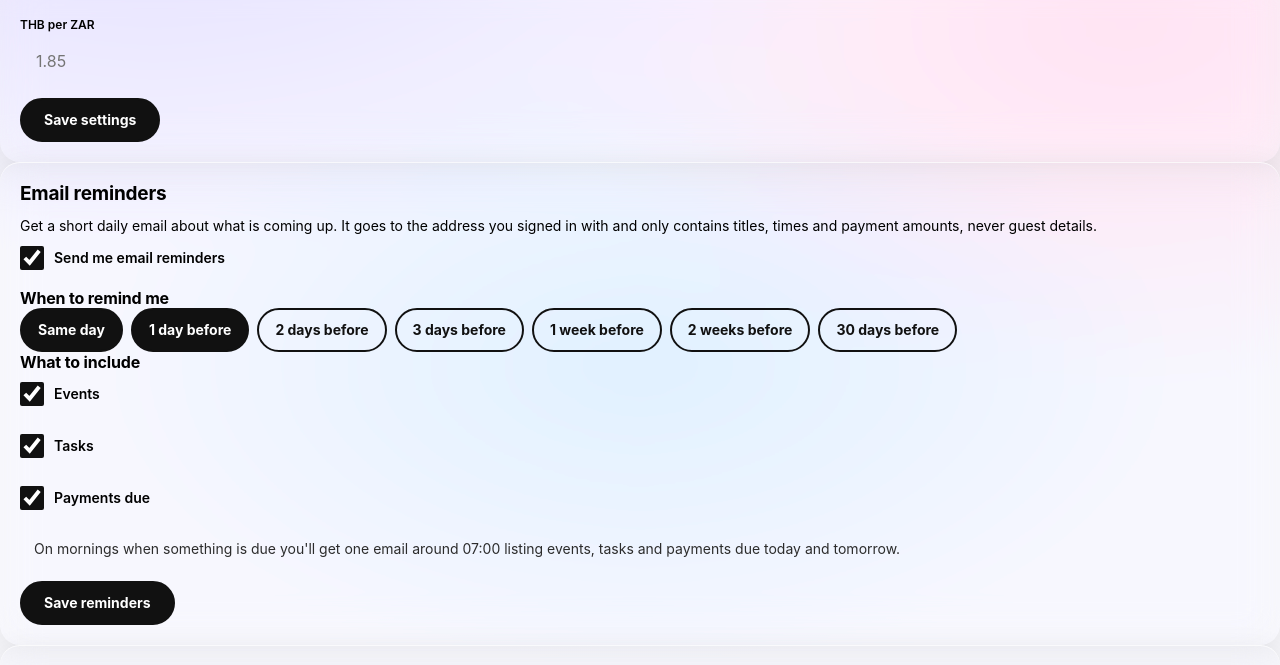
Test: none selected while enabled shows an error and does not save
(page scrolled)
Click the button "Same day": coordinates (71, 330) [20,308,123,352]
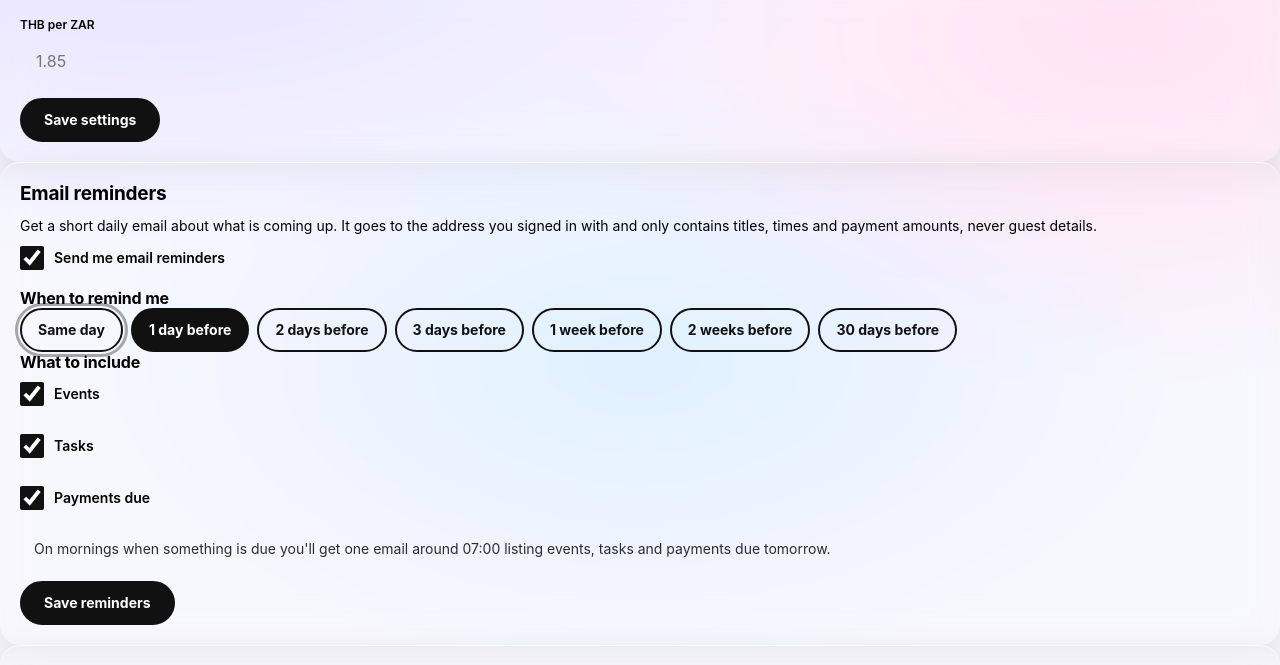
Click the button "1 day before": coordinates (190, 330) [131,308,249,352]
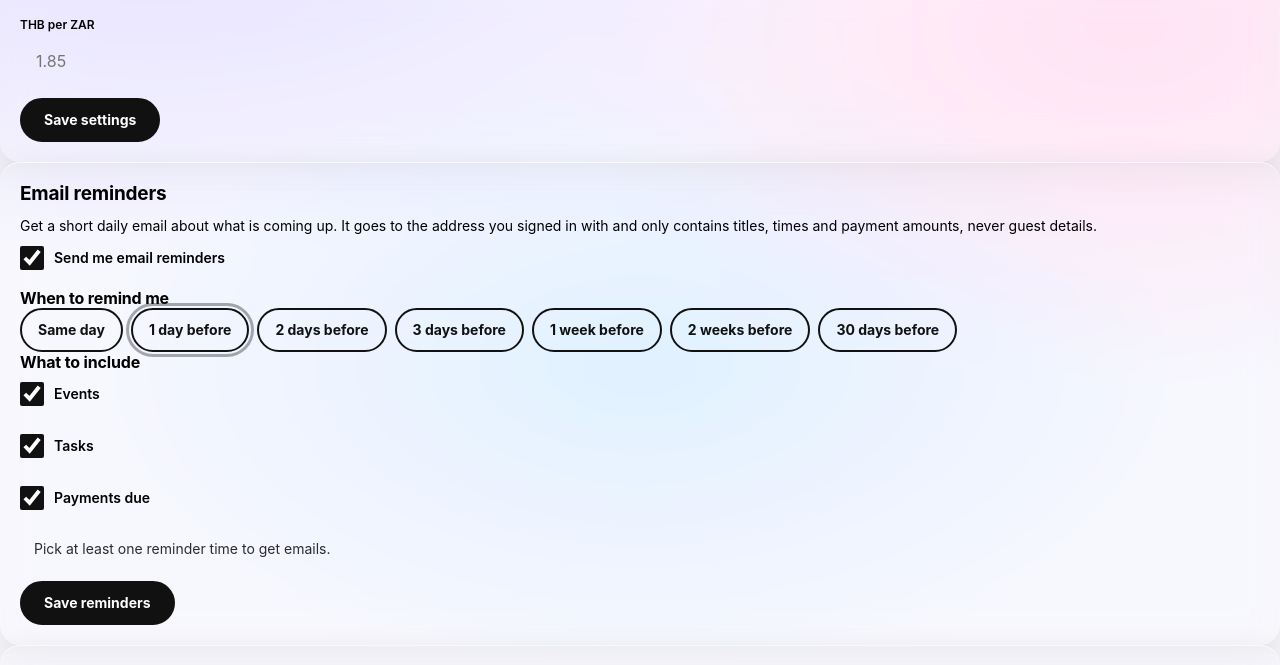
Click the button "Save reminders": coordinates (97, 603) [20,581,174,625]
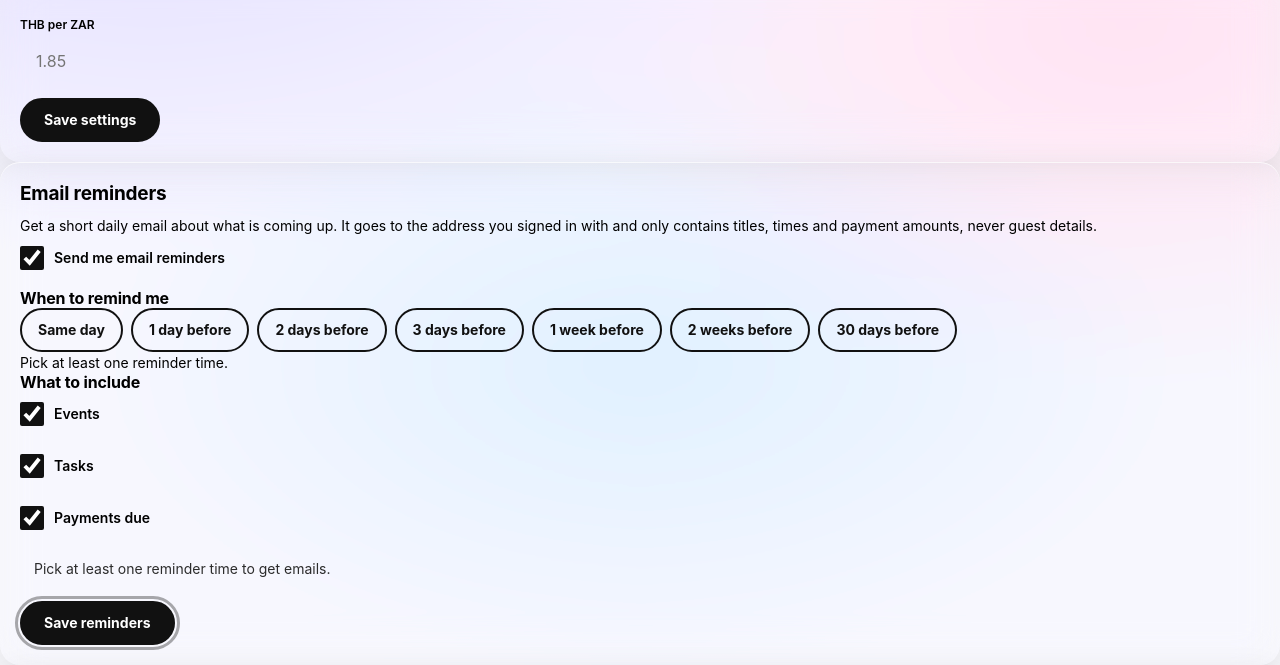
Expected: the text "Pick at least one reminder time." is shown, [20,354,228,371]
